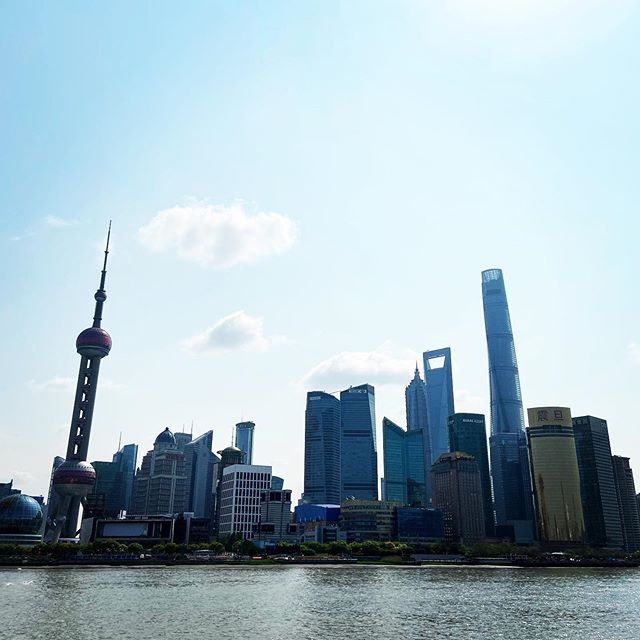building: (43, 218, 126, 533), (476, 261, 543, 541), (529, 407, 584, 546), (573, 406, 628, 545), (299, 388, 346, 503), (336, 380, 383, 495), (430, 449, 488, 538), (127, 429, 179, 522), (221, 461, 274, 545), (377, 419, 434, 494), (423, 342, 455, 454), (405, 370, 432, 448)
sea: (10, 569, 640, 640)
sky: (15, 1, 640, 381)
